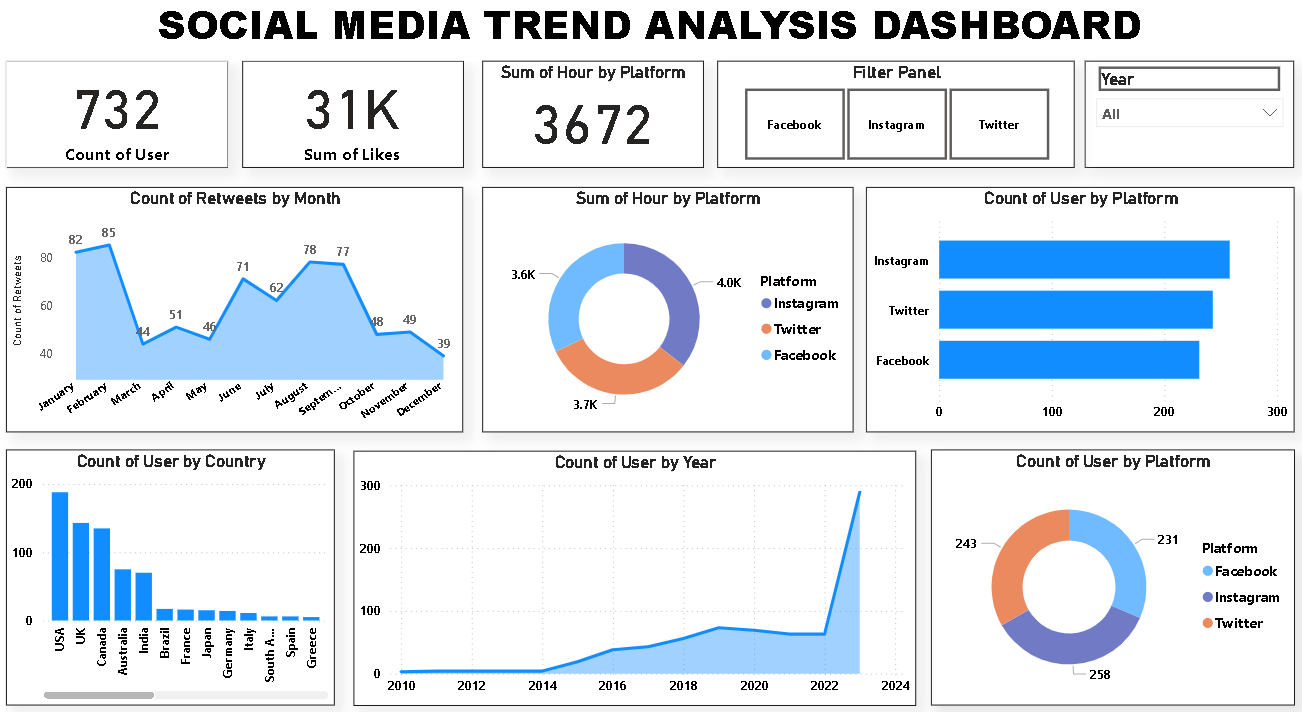

The page's visual inventory and layout, read from the dashboard file:
{"tool":"powerbi","page":{"name":"Page 1","canvas":[1280,720],"ordinal":0},"visuals":[{"type":"donutChart","fields":{"Series":["Cleaned_Social_Media_Data.Platform"],"Y":["CountNonNull(Cleaned_Social_Media_Data.User)"]},"box":[914.7,447.6,355.8,250.7],"z":1000},{"type":"stackedAreaChart","fields":{"Category":["Cleaned_Social_Media_Data.Year"],"Y":["CountNonNull(Cleaned_Social_Media_Data.User)"]},"box":[349.7,448.8,550.3,249.5],"z":2000},{"type":"card","fields":{"Values":["CountNonNull(Cleaned_Social_Media_Data.User)"]},"box":[9.8,67.3,217.7,105.2],"z":3000},{"type":"clusteredBarChart","fields":{"Category":["Cleaned_Social_Media_Data.Platform"],"Y":["CountNonNull(Cleaned_Social_Media_Data.User)"]},"box":[851.1,190.8,419.4,239.7],"z":4000},{"type":"clusteredColumnChart","fields":{"Category":["Cleaned_Social_Media_Data.Country"],"Y":["CountNonNull(Cleaned_Social_Media_Data.User)"]},"box":[9.8,447.6,321.6,250.7],"z":5000},{"type":"card","fields":{"Values":["Sum(Cleaned_Social_Media_Data.Likes)"]},"box":[240.9,67.3,216.4,105.2],"z":6000},{"type":"stackedAreaChart","fields":{"Y":["CountNonNull(Cleaned_Social_Media_Data.Retweets)"],"Category":["Cleaned_Social_Media_Data.Timestamp.Variation.Date Hierarchy.Month"]},"box":[9.8,190.8,447.6,240],"z":7000},{"type":"donutChart","fields":{"Y":["Sum(Cleaned_Social_Media_Data.Hour)"],"Category":["Cleaned_Social_Media_Data.Platform"]},"box":[475.7,190.8,363.2,239.7],"z":8000},{"type":"kpi","fields":{"Indicator":["Sum(Cleaned_Social_Media_Data.Hour)"],"TrendLine":["Cleaned_Social_Media_Data.Platform"]},"box":[475.7,67.3,216.4,105.2],"z":9000},{"type":"textbox","box":[0,0,1280.3,67.3],"z":10000},{"type":"slicer","fields":{"Values":["Cleaned_Social_Media_Data.Year"]},"box":[1065.1,67.3,205,105.2],"z":11000},{"type":"slicer","title":"Filter Panel","fields":{"Values":["Cleaned_Social_Media_Data.Platform"]},"box":[705.6,67.3,349.7,105.2],"z":12000}]}

Visuals, with their boxes in screenshot pixels (x1, y1, x2, y2), scaled from the page's 1280x720 canvas onto the 1302x712 screenshot:
donutChart - Cleaned_Social_Media_Data.Platform x CountNonNull(Cleaned_Social_Media_Data.User): bbox(930, 443, 1292, 691)
stackedAreaChart - Cleaned_Social_Media_Data.Year x CountNonNull(Cleaned_Social_Media_Data.User): bbox(356, 444, 915, 691)
card - CountNonNull(Cleaned_Social_Media_Data.User): bbox(10, 67, 231, 171)
clusteredBarChart - Cleaned_Social_Media_Data.Platform x CountNonNull(Cleaned_Social_Media_Data.User): bbox(866, 189, 1292, 426)
clusteredColumnChart - Cleaned_Social_Media_Data.Country x CountNonNull(Cleaned_Social_Media_Data.User): bbox(10, 443, 337, 691)
card - Sum(Cleaned_Social_Media_Data.Likes): bbox(245, 67, 465, 171)
stackedAreaChart - CountNonNull(Cleaned_Social_Media_Data.Retweets) x Cleaned_Social_Media_Data.Timestamp.Variation.Date Hierarchy.Month: bbox(10, 189, 465, 426)
donutChart - Sum(Cleaned_Social_Media_Data.Hour) x Cleaned_Social_Media_Data.Platform: bbox(484, 189, 853, 426)
kpi - Sum(Cleaned_Social_Media_Data.Hour) x Cleaned_Social_Media_Data.Platform: bbox(484, 67, 704, 171)
textbox: bbox(0, 0, 1301, 67)
slicer - Cleaned_Social_Media_Data.Year: bbox(1083, 67, 1292, 171)
"Filter Panel" slicer: bbox(718, 67, 1073, 171)
